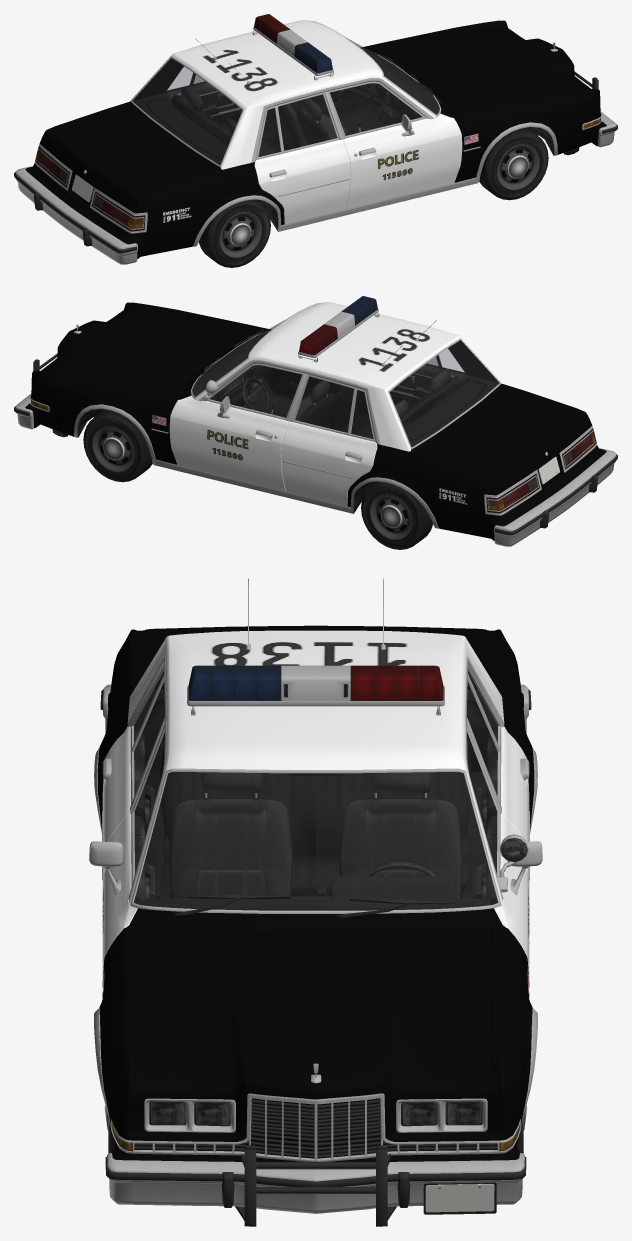
Rendered from PoliceCar.obj.
3 views of the same model, one above another, from view 1: azimuth 30°, elevation 25°; view 2: azimuth 150°, elevation 25°; view 3: azimuth 270°, elevation 25° (orthographic). The views are drawn at different scales.
Parts seen in each view (by area): view 1: Negotiator80cop_Body_Negotiator80cop_body_0, Negotiator80cop_Interior_GEN4DR_INTERIOR_0, Negotiator80cop_Hood_Negotiator80cop_body_0, Negotiator80cop_bottom_UCB_BOTTOM_0, Negotiator80cop_Trunk_door_Negotiator80cop_body_0, Negotiator80cop_Glass_back_UCB_GLASS_CLEAN_0, Negotiator80cop_Bodyglass_UCB_GLASS_CLEAN_0, Negotiator80cop_Wheel_FR_RB1c_Tire_0, Negotiator80cop_Wheel_RR_RB1c_Tire_0, Negotiator80cop_Bumper_Rear_UCB_BOTTOM_0, Negotiator80cop_Lightbar_glass_Riverside88_lights_glass_0, Negotiator80cop_Windshield_UCB_GLASS_CLEAN_0 (+3 smaller); view 2: Negotiator80cop_Body_Negotiator80cop_body_0, Negotiator80cop_Interior_GEN4DR_INTERIOR_0, Negotiator80cop_Hood_Negotiator80cop_body_0, Negotiator80cop_bottom_UCB_BOTTOM_0, Negotiator80cop_Trunk_door_Negotiator80cop_body_0, Negotiator80cop_Glass_back_UCB_GLASS_CLEAN_0, Negotiator80cop_Bodyglass_UCB_GLASS_CLEAN_0, Negotiator80cop_Wheel_FL_RB1c_Tire_0, Negotiator80cop_Wheel_RL_RB1c_Tire_0, Negotiator80cop_Bumper_Rear_UCB_BOTTOM_0, Negotiator80cop_Lightbar_glass_Riverside88_lights_glass_0, Negotiator80cop_Windshield_UCB_GLASS_CLEAN_0 (+3 smaller); view 3: Negotiator80cop_Body_Negotiator80cop_body_0, Negotiator80cop_Interior_GEN4DR_INTERIOR_0, Negotiator80cop_Hood_Negotiator80cop_body_0, Negotiator80cop_Windshield_UCB_GLASS_CLEAN_0, Negotiator80cop_bottom_UCB_BOTTOM_0, Negotiator80cop_Bumper_Front_UCB_BOTTOM_0, Negotiator80cop_Lightbar_glass_Riverside88_lights_glass_0, Negotiator80cop_Bodyglass_UCB_GLASS_CLEAN_0, Negotiator80cop_Lightbar_UCB_BOTTOM_0, Negotiator80cop_Headlights_Riverside88_lights_glass_0, Negotiator80cop_Trunk_door_Negotiator80cop_body_0, Negotiator80cop_Numberplate_front_Negotiator80_Misc_0.
Boxes of the visible parts, bbox=[...] form: Negotiator80cop_Body_Negotiator80cop_body_0: bbox=[25, 20, 606, 258]; Negotiator80cop_Interior_GEN4DR_INTERIOR_0: bbox=[132, 49, 439, 164]; Negotiator80cop_Hood_Negotiator80cop_body_0: bbox=[366, 26, 583, 113]; Negotiator80cop_bottom_UCB_BOTTOM_0: bbox=[34, 20, 601, 246]; Negotiator80cop_Trunk_door_Negotiator80cop_body_0: bbox=[44, 107, 210, 209]; Negotiator80cop_Glass_back_UCB_GLASS_CLEAN_0: bbox=[133, 58, 241, 164]; Negotiator80cop_Bodyglass_UCB_GLASS_CLEAN_0: bbox=[194, 75, 421, 156]; Negotiator80cop_Wheel_FR_RB1c_Tire_0: bbox=[479, 127, 548, 200]; Negotiator80cop_Wheel_RR_RB1c_Tire_0: bbox=[199, 199, 270, 267]; Negotiator80cop_Bumper_Rear_UCB_BOTTOM_0: bbox=[14, 166, 137, 264]; Negotiator80cop_Lightbar_glass_Riverside88_lights_glass_0: bbox=[254, 14, 332, 73]; Negotiator80cop_Windshield_UCB_GLASS_CLEAN_0: bbox=[347, 38, 439, 114]; Negotiator80cop_Body_Negotiator80cop_body_0: bbox=[25, 302, 606, 540]; Negotiator80cop_Interior_GEN4DR_INTERIOR_0: bbox=[192, 331, 499, 446]; Negotiator80cop_Hood_Negotiator80cop_body_0: bbox=[48, 308, 265, 395]; Negotiator80cop_bottom_UCB_BOTTOM_0: bbox=[30, 302, 597, 528]; Negotiator80cop_Trunk_door_Negotiator80cop_body_0: bbox=[421, 389, 587, 491]; Negotiator80cop_Glass_back_UCB_GLASS_CLEAN_0: bbox=[390, 340, 498, 446]; Negotiator80cop_Bodyglass_UCB_GLASS_CLEAN_0: bbox=[210, 357, 437, 438]; Negotiator80cop_Wheel_FL_RB1c_Tire_0: bbox=[83, 409, 152, 482]; Negotiator80cop_Wheel_RL_RB1c_Tire_0: bbox=[361, 481, 432, 549]; Negotiator80cop_Bumper_Rear_UCB_BOTTOM_0: bbox=[494, 448, 617, 546]; Negotiator80cop_Lightbar_glass_Riverside88_lights_glass_0: bbox=[299, 296, 377, 355]; Negotiator80cop_Windshield_UCB_GLASS_CLEAN_0: bbox=[192, 320, 284, 396]; Negotiator80cop_Body_Negotiator80cop_body_0: bbox=[97, 629, 534, 1162]; Negotiator80cop_Interior_GEN4DR_INTERIOR_0: bbox=[134, 690, 497, 910]; Negotiator80cop_Hood_Negotiator80cop_body_0: bbox=[140, 928, 491, 1075]; Negotiator80cop_Windshield_UCB_GLASS_CLEAN_0: bbox=[134, 772, 497, 910]; Negotiator80cop_bottom_UCB_BOTTOM_0: bbox=[89, 578, 542, 1161]; Negotiator80cop_Bumper_Front_UCB_BOTTOM_0: bbox=[105, 1145, 526, 1226]; Negotiator80cop_Lightbar_glass_Riverside88_lights_glass_0: bbox=[188, 665, 443, 700]; Negotiator80cop_Bodyglass_UCB_GLASS_CLEAN_0: bbox=[134, 672, 497, 872]; Negotiator80cop_Lightbar_UCB_BOTTOM_0: bbox=[187, 665, 444, 715]; Negotiator80cop_Headlights_Riverside88_lights_glass_0: bbox=[149, 1100, 482, 1126]; Negotiator80cop_Trunk_door_Negotiator80cop_body_0: bbox=[146, 625, 485, 689]; Negotiator80cop_Numberplate_front_Negotiator80_Misc_0: bbox=[425, 1184, 494, 1212].
Size of the model in its own units: 4.98 by 1.59 by 1.88.
7 materials, 5 textured.
